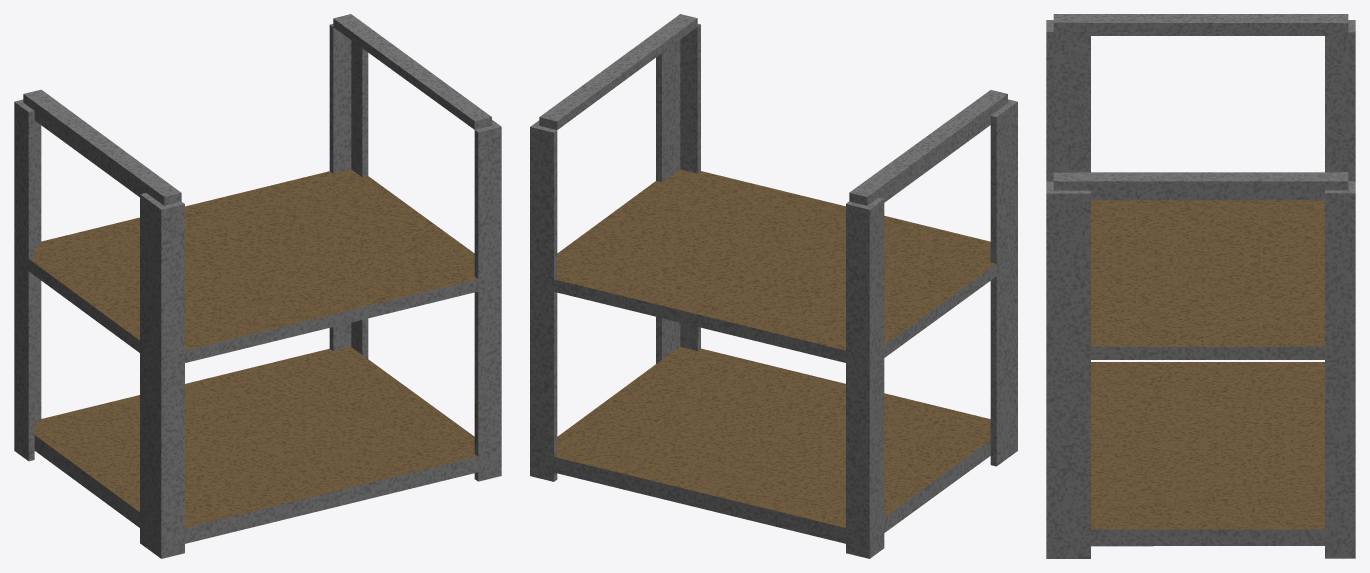
File: regal1.fbx
The picture shows the model from 3 angles, left to right: view 1: azimuth 30°, elevation 25°; view 2: azimuth 150°, elevation 25°; view 3: azimuth 270°, elevation 25°; orthographic projection. The views are drawn at different scales.
Visible parts, largest first — view 1: Plane.003; view 2: Plane.003; view 3: Plane.003.
Boxes of the visible parts, box(x1,y1,x2,y2) form: Plane.003: box(14, 14, 501, 558); Plane.003: box(530, 14, 1017, 558); Plane.003: box(1046, 14, 1355, 558).
Bounding box in the file's own units: 398 × 400 × 299.
1 material, 1 textured.
